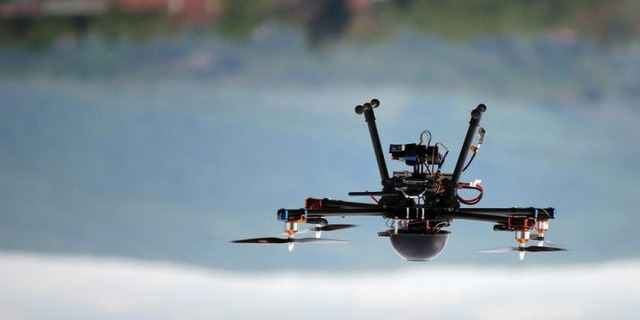drone: (232, 96, 569, 262)
